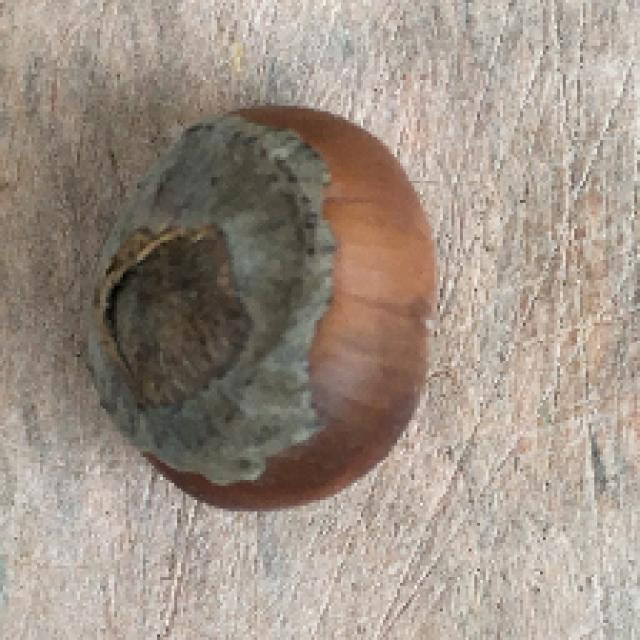damagedHazelnut: (83, 95, 443, 521)
